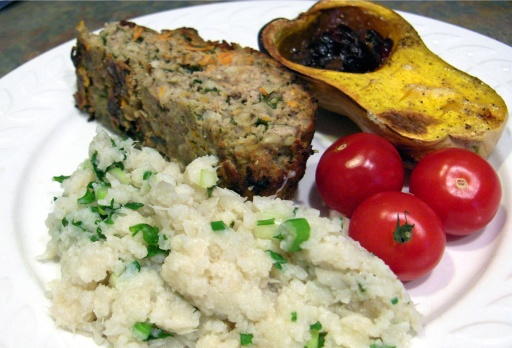background: (29, 0, 407, 189)
